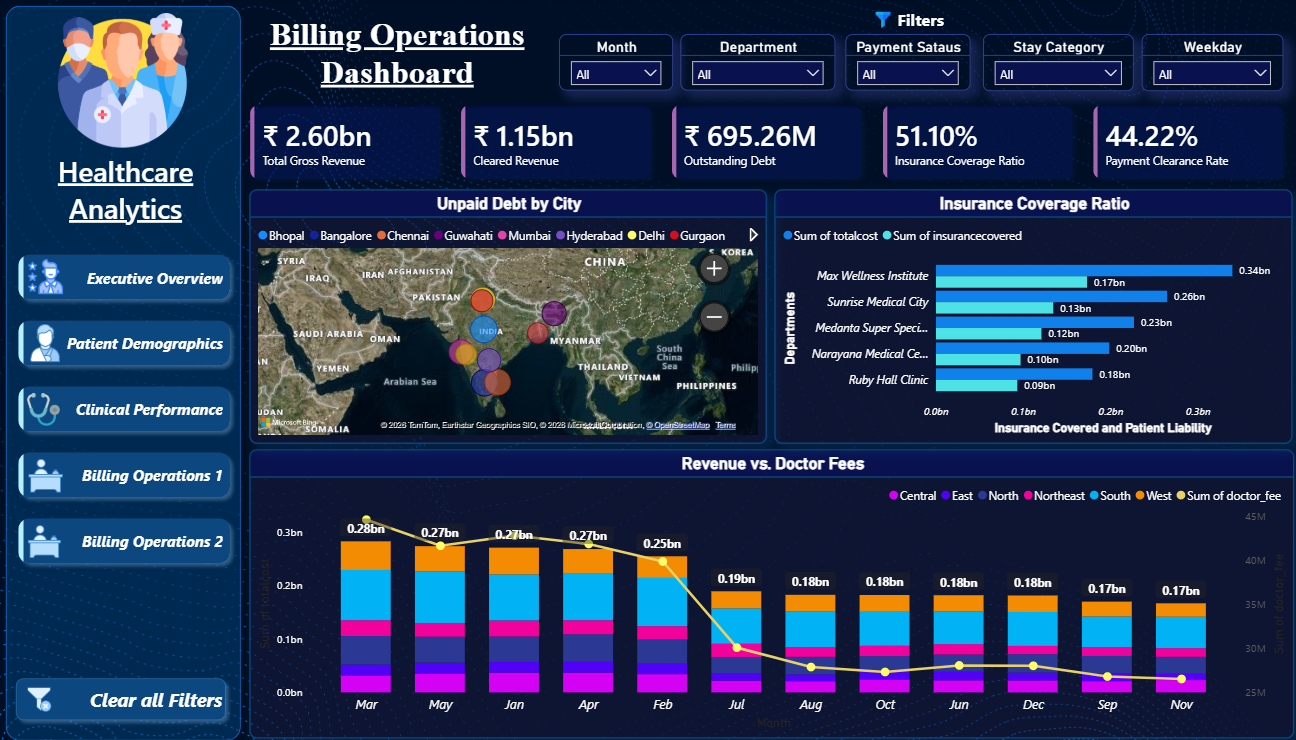

What the dashboard file says about the page in this screenshot:
{"tool":"powerbi","page":{"name":"Billing Operations 1","canvas":[1500,860],"ordinal":3},"visuals":[{"type":"group","id":"g1","title":"Group 2","box":[0,0,288.9,865.2],"z":0,"group":"g5"},{"type":"shape","box":[0,0,288.9,865.2],"z":0,"group":"g1"},{"type":"group","id":"g2","title":"Group 4","box":[626.7,0,874.1,125.3],"z":0,"group":"g4"},{"type":"group","id":"g3","title":"Group 3","box":[626.7,0,874.1,125.3],"z":0,"group":"g2"},{"type":"shape","box":[626.7,0,874.1,125.3],"z":0,"group":"g3"},{"type":"cardVisual","fields":{"Data":["measures_.Total Gross Revenue","measures_.Cleared Revenue","measures_.Outstanding Debt","measures_.Insurance Coverage Ratio","measures_.Payment Clearance Rate"]},"box":[273.6,107,1225.9,119.2],"z":0},{"type":"pageNavigator","box":[13.9,287.4,262.3,374.7],"z":0,"group":"g6"},{"type":"group","id":"g4","title":"Group 5","box":[626.7,0,874.1,125.3],"z":1000},{"type":"textbox","box":[633.8,6.7,859.3,41.6],"z":1000,"group":"g2"},{"type":"image","box":[1001.5,16.2,37.4,18.7],"z":1000,"group":"g4"},{"type":"image","box":[58.1,16.6,172.7,155.2],"z":1000,"group":"g1"},{"type":"slicer","title":"Department","fields":{"Values":["admissions.department"]},"box":[787.1,41.8,178.7,64.8],"z":1000,"group":"g3"},{"type":"image","box":[30.6,300.7,46.7,43.3],"z":1000,"group":"g6"},{"type":"actionButton","box":[12.2,774.8,259.9,66.2],"z":1000,"group":"g5"},{"type":"group","id":"g5","title":"Group 6","box":[0,0,288.9,865.2],"z":2000},{"type":"slicer","title":"Payment Sataus","fields":{"Values":["billing.paymentstatus"]},"box":[976.9,41.8,144.1,64.8],"z":2000,"group":"g3"},{"type":"textbox","box":[18.3,166.7,256.7,116.7],"z":2000,"group":"g1"},{"type":"image","box":[29.6,375.8,48.9,46.7],"z":2000,"group":"g6"},{"type":"image","box":[24.5,793.4,45.4,28.5],"z":2000,"group":"g5"},{"type":"textbox","box":[274.3,7.1,372.9,118.6],"z":3000},{"type":"slicer","title":"Weekday","fields":{"Values":["Calendar.Weekday"]},"box":[1318.3,41.3,162.9,65.3],"z":3000,"group":"g3"},{"type":"image","box":[30.6,530.7,46.7,41.1],"z":3000,"group":"g6"},{"type":"slicer","title":"Stay Category","fields":{"Values":["admissions.stay_category"]},"box":[1135.1,41.3,173.4,65.3],"z":4000,"group":"g3"},{"type":"lineStackedColumnComboChart","title":"Revenue vs Doctor Fees","fields":{"Y":["Sum(billing.totalcost)"],"Category":["Calendar.Month"],"Y2":["Sum(billing.doctor_fee)"],"Series":["hospitals.region"]},"box":[289.2,520,1204.6,333.8],"z":4000},{"type":"image","box":[30,606.6,46.7,40],"z":4000,"group":"g6"},{"type":"slicer","title":"Month","fields":{"Values":["Calendar.Month"]},"box":[647.3,41.8,131.1,64.8],"z":5000,"group":"g3"},{"type":"clusteredBarChart","title":"Insurance Coverage Ratio","fields":{"Y":["Sum(billing.totalcost)","Sum(billing.insurancecovered)"],"Category":["hospitals.hospitalname"]},"box":[895,220,597.5,293.8],"z":5000},{"type":"image","box":[28.9,456.6,47.8,37.8],"z":5000,"group":"g6"},{"type":"map","title":"Unpaid Debt by City","fields":{"Category":["hospitals.city"],"Series":["hospitals.city"],"Size":["measures_.Outstanding Debt"]},"box":[289.6,220.5,596.6,294],"z":6000},{"type":"group","id":"g6","title":"Group 1","box":[13.9,287.4,262.3,374.7],"z":7000}]}

Visuals, with their boxes in screenshot pixels (x1, y1, x2, y2), scaled from the page's 1500x860 canvas onto the 1296x740 screenshot:
"Group 2" group: select_region(0, 0, 250, 739)
shape: select_region(0, 0, 250, 739)
"Group 4" group: select_region(541, 0, 1295, 108)
"Group 3" group: select_region(541, 0, 1295, 108)
shape: select_region(541, 0, 1295, 108)
cardVisual - measures_.Total Gross Revenue x measures_.Cleared Revenue: select_region(236, 92, 1295, 195)
pageNavigator: select_region(12, 247, 239, 570)
"Group 5" group: select_region(541, 0, 1295, 108)
textbox: select_region(548, 6, 1290, 42)
image: select_region(865, 14, 898, 30)
image: select_region(50, 14, 199, 148)
"Department" slicer: select_region(680, 36, 834, 92)
image: select_region(26, 259, 67, 296)
actionButton: select_region(11, 667, 235, 724)
"Group 6" group: select_region(0, 0, 250, 739)
"Payment Sataus" slicer: select_region(844, 36, 969, 92)
textbox: select_region(16, 143, 238, 244)
image: select_region(26, 323, 68, 364)
image: select_region(21, 683, 60, 707)
textbox: select_region(237, 6, 559, 108)
"Weekday" slicer: select_region(1139, 36, 1280, 92)
image: select_region(26, 457, 67, 492)
"Stay Category" slicer: select_region(981, 36, 1131, 92)
"Revenue vs Doctor Fees" lineStackedColumnComboChart: select_region(250, 447, 1291, 735)
image: select_region(26, 522, 66, 556)
"Month" slicer: select_region(559, 36, 673, 92)
"Insurance Coverage Ratio" clusteredBarChart: select_region(773, 189, 1290, 442)
image: select_region(25, 393, 66, 425)
"Unpaid Debt by City" map: select_region(250, 190, 766, 443)
"Group 1" group: select_region(12, 247, 239, 570)
